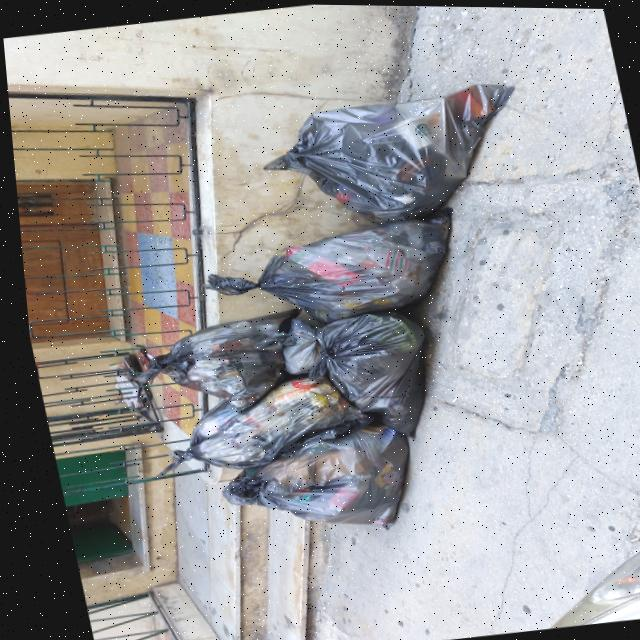Mixed Waste -Black Bag-: (261, 77, 537, 233), (161, 309, 327, 473), (243, 207, 464, 330), (205, 423, 418, 542), (302, 308, 443, 442)
